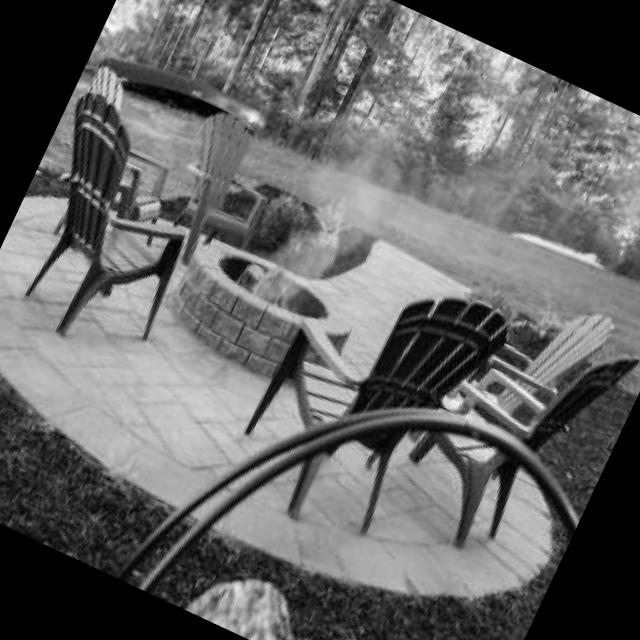fire: (232, 259, 269, 302)
smoke: (258, 104, 420, 324)
